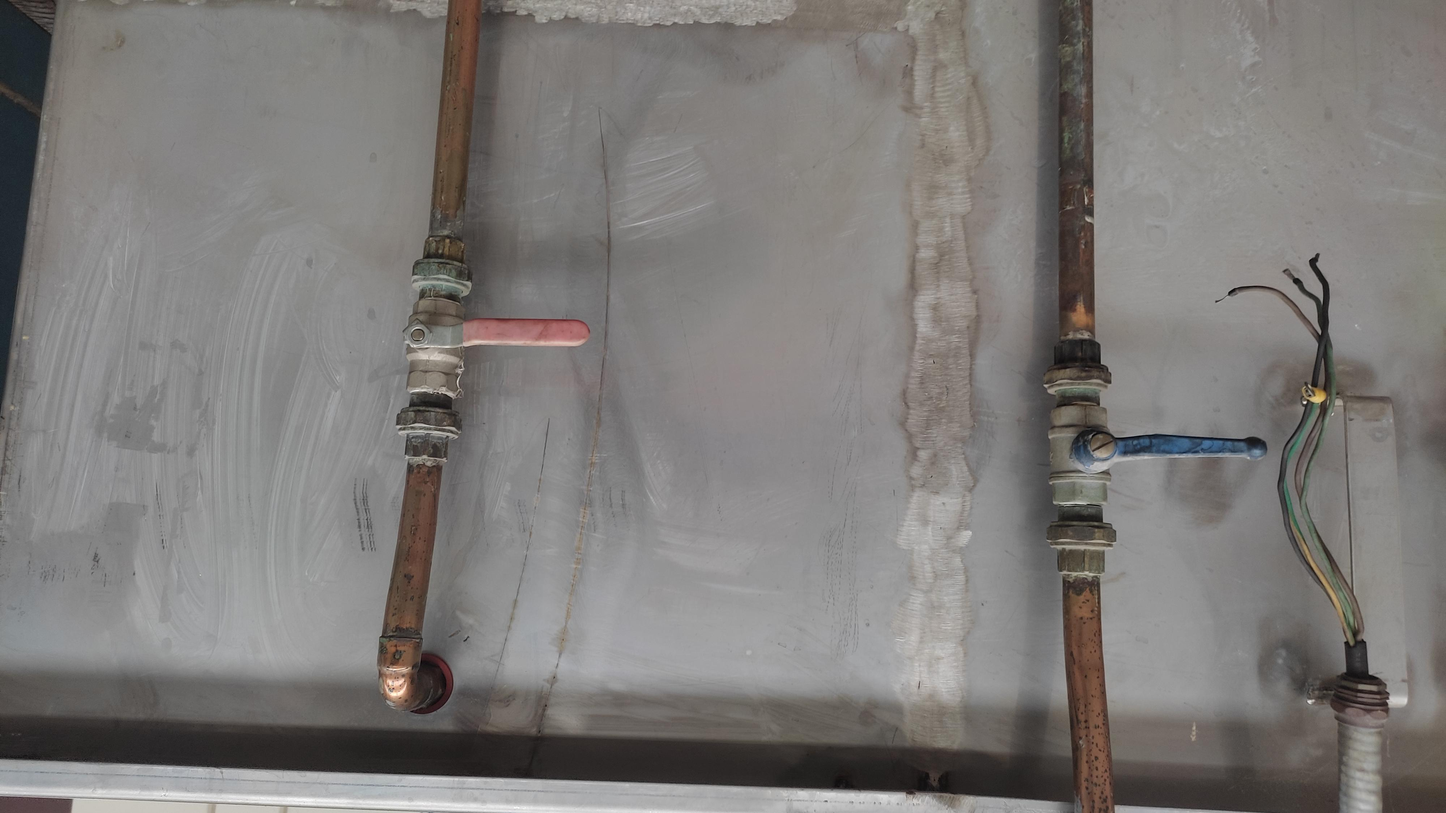closed valve: (1040, 396, 1273, 519), (393, 284, 595, 405)
